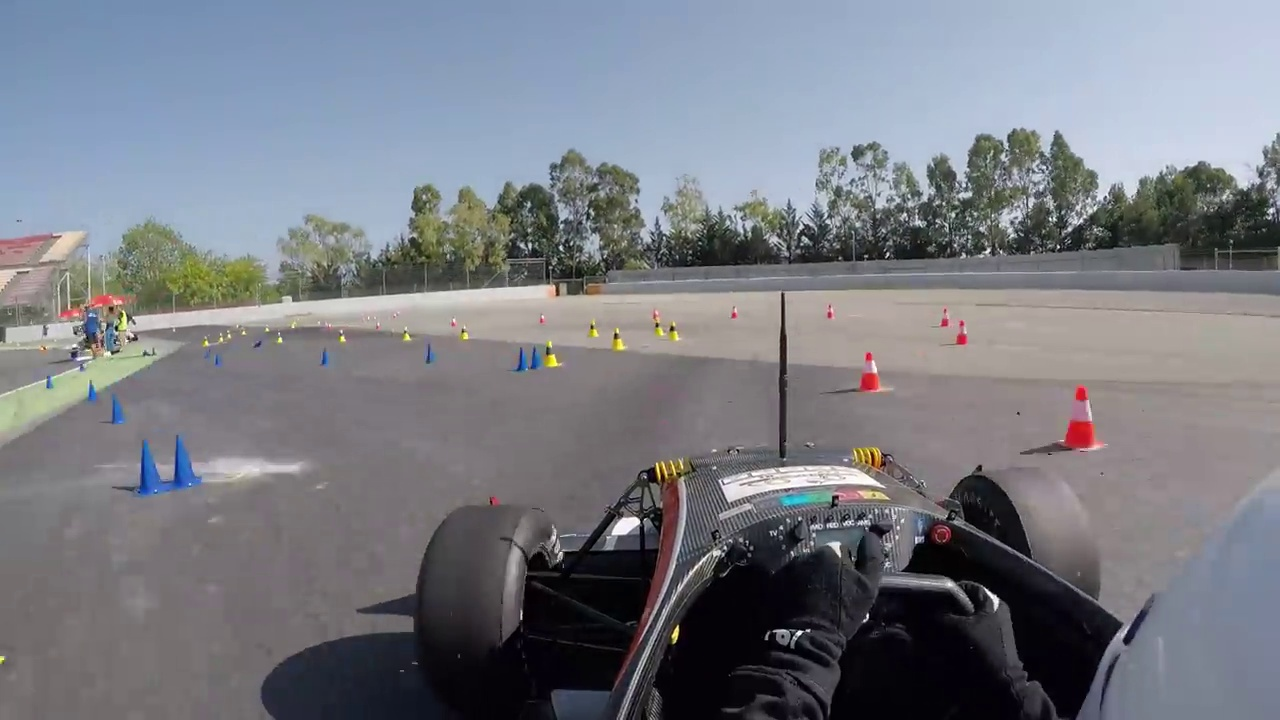Cone: (1056, 384, 1113, 450), (172, 432, 204, 489), (135, 436, 162, 497), (859, 349, 882, 393), (540, 340, 562, 367)
